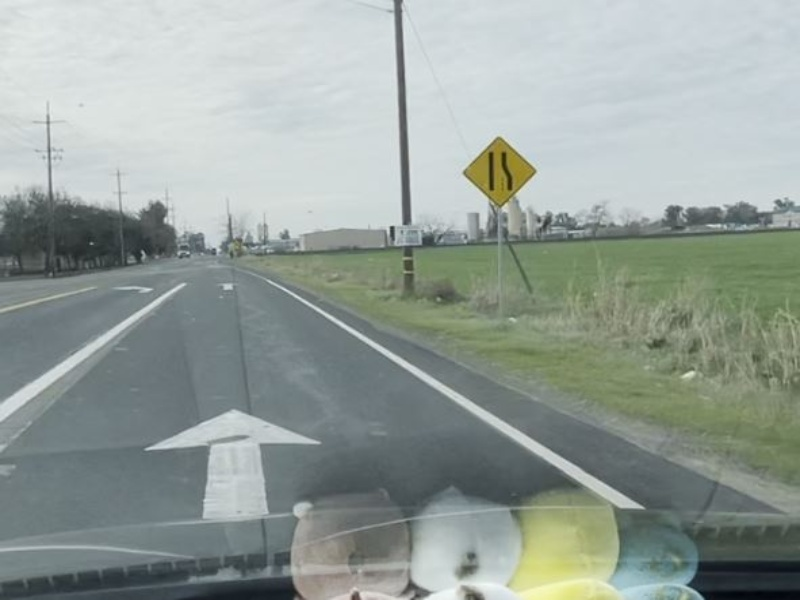merge sign: (461, 136, 540, 210)
